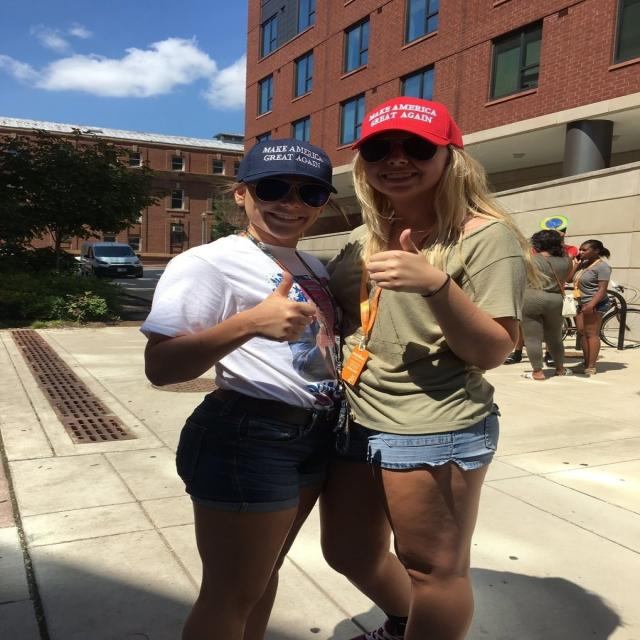body: (308, 92, 549, 639), (130, 133, 353, 640), (501, 228, 579, 385), (502, 226, 580, 368), (560, 238, 615, 376)
